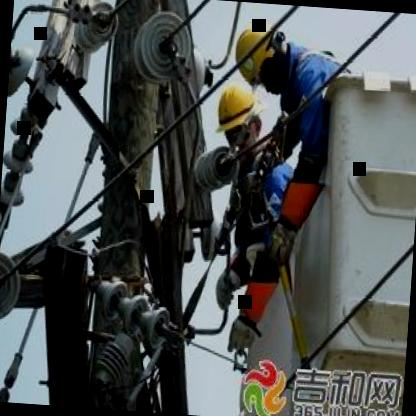helmet: (212, 74, 262, 152), (226, 18, 283, 82)
